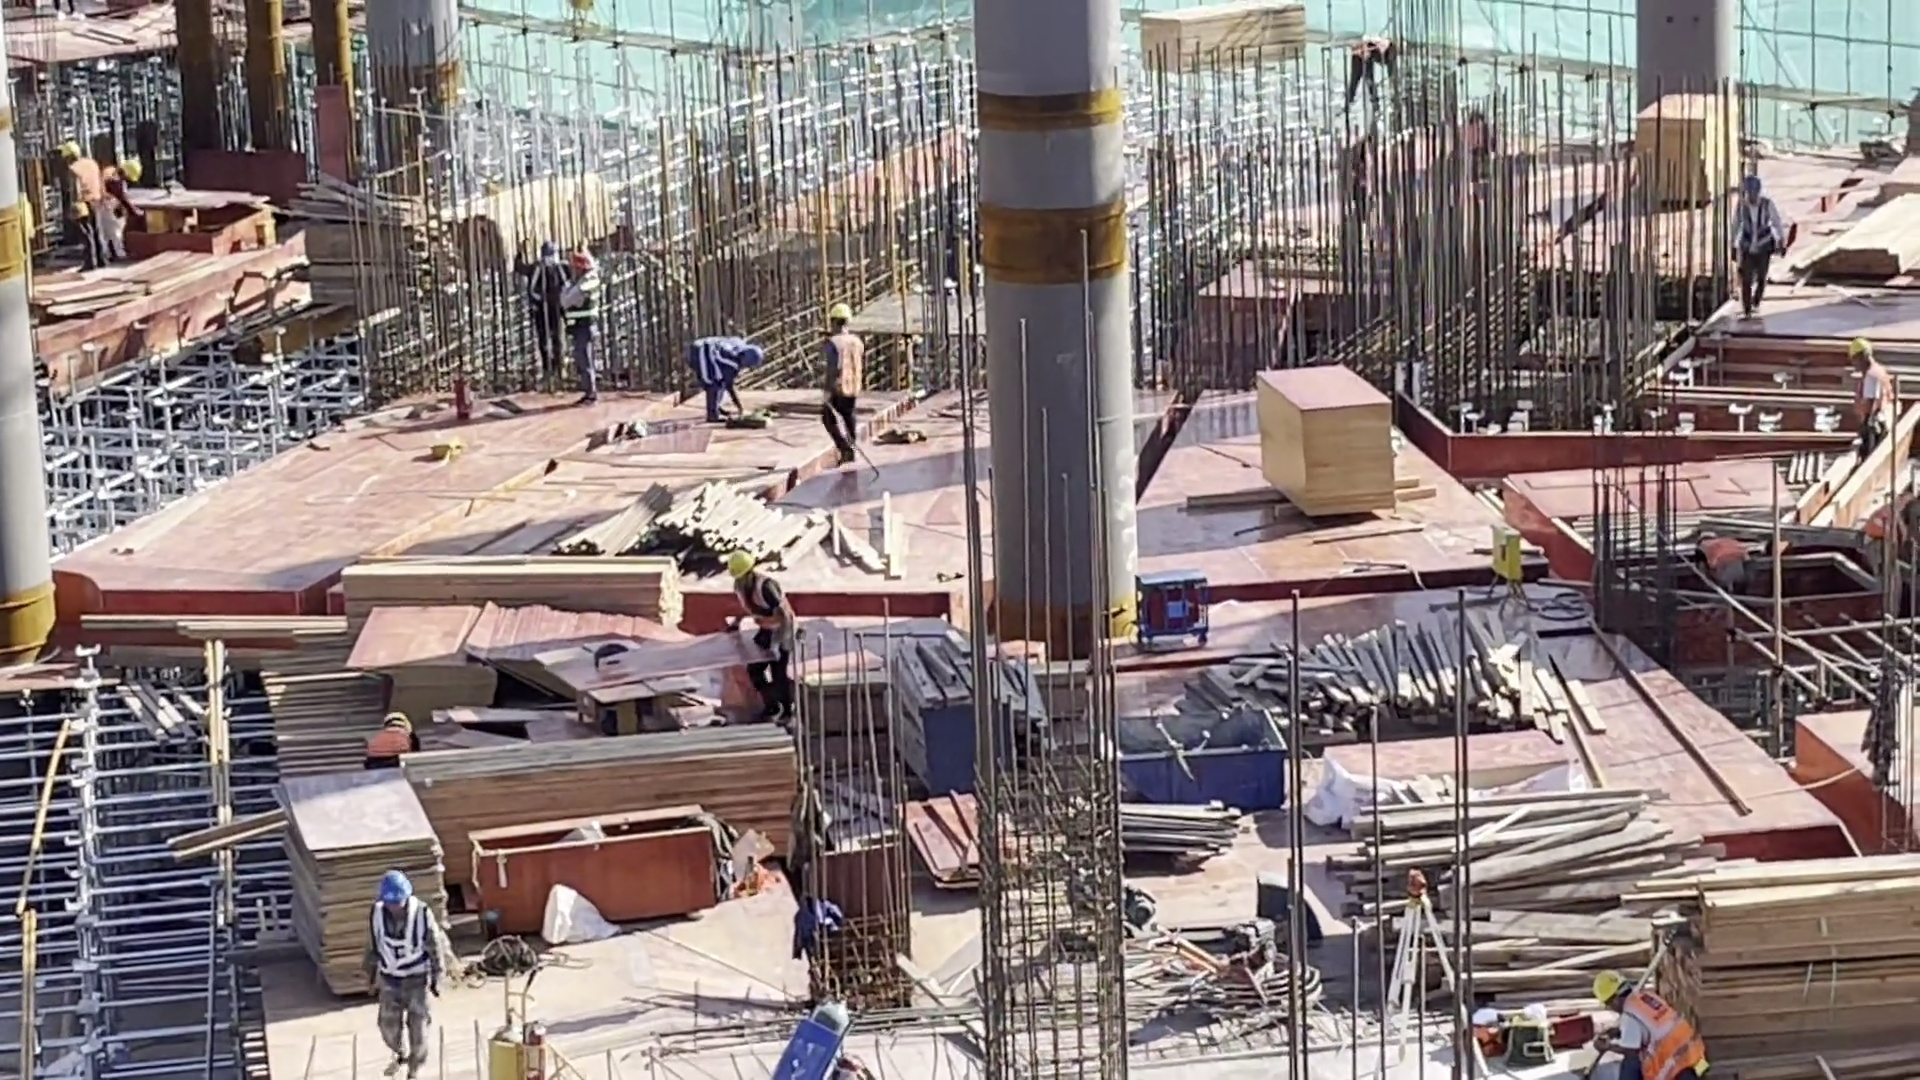board: (286, 766, 438, 991), (1250, 360, 1397, 518), (342, 606, 480, 709), (1626, 90, 1733, 207), (896, 786, 986, 895)
cutter: (544, 631, 705, 732), (126, 183, 276, 257)
ebox: (1485, 518, 1525, 599)
helmet: (1590, 969, 1630, 1004), (376, 873, 411, 902), (742, 342, 764, 377), (117, 157, 142, 184), (729, 552, 751, 582), (828, 300, 853, 323), (380, 709, 412, 726), (1743, 171, 1764, 194), (59, 138, 79, 161), (569, 252, 592, 270), (540, 240, 556, 258), (1696, 529, 1719, 538)
hopper: (1108, 707, 1286, 808)
person: (362, 870, 439, 1080), (1588, 965, 1715, 1080), (717, 543, 804, 706), (817, 304, 865, 467), (1731, 171, 1783, 315), (684, 333, 767, 420), (512, 236, 561, 378), (558, 245, 600, 398), (98, 159, 148, 269), (1843, 333, 1888, 451), (54, 131, 93, 263), (1858, 496, 1920, 578), (1342, 34, 1395, 115), (358, 706, 423, 767), (1694, 527, 1752, 595)
vest: (1622, 981, 1705, 1080), (367, 900, 429, 992), (731, 577, 803, 656), (826, 331, 865, 399), (1733, 195, 1775, 257), (558, 272, 602, 330), (688, 341, 742, 387), (65, 154, 100, 207), (363, 728, 409, 765), (1699, 539, 1748, 568), (100, 168, 124, 228), (529, 266, 558, 311), (1346, 37, 1382, 61)
wood: (1339, 761, 1702, 972), (1671, 850, 1920, 1080), (1180, 613, 1601, 746), (404, 732, 807, 828), (334, 548, 687, 625), (563, 478, 826, 567), (293, 167, 431, 320), (453, 168, 616, 261), (1789, 188, 1920, 282), (1138, 1, 1306, 70)
